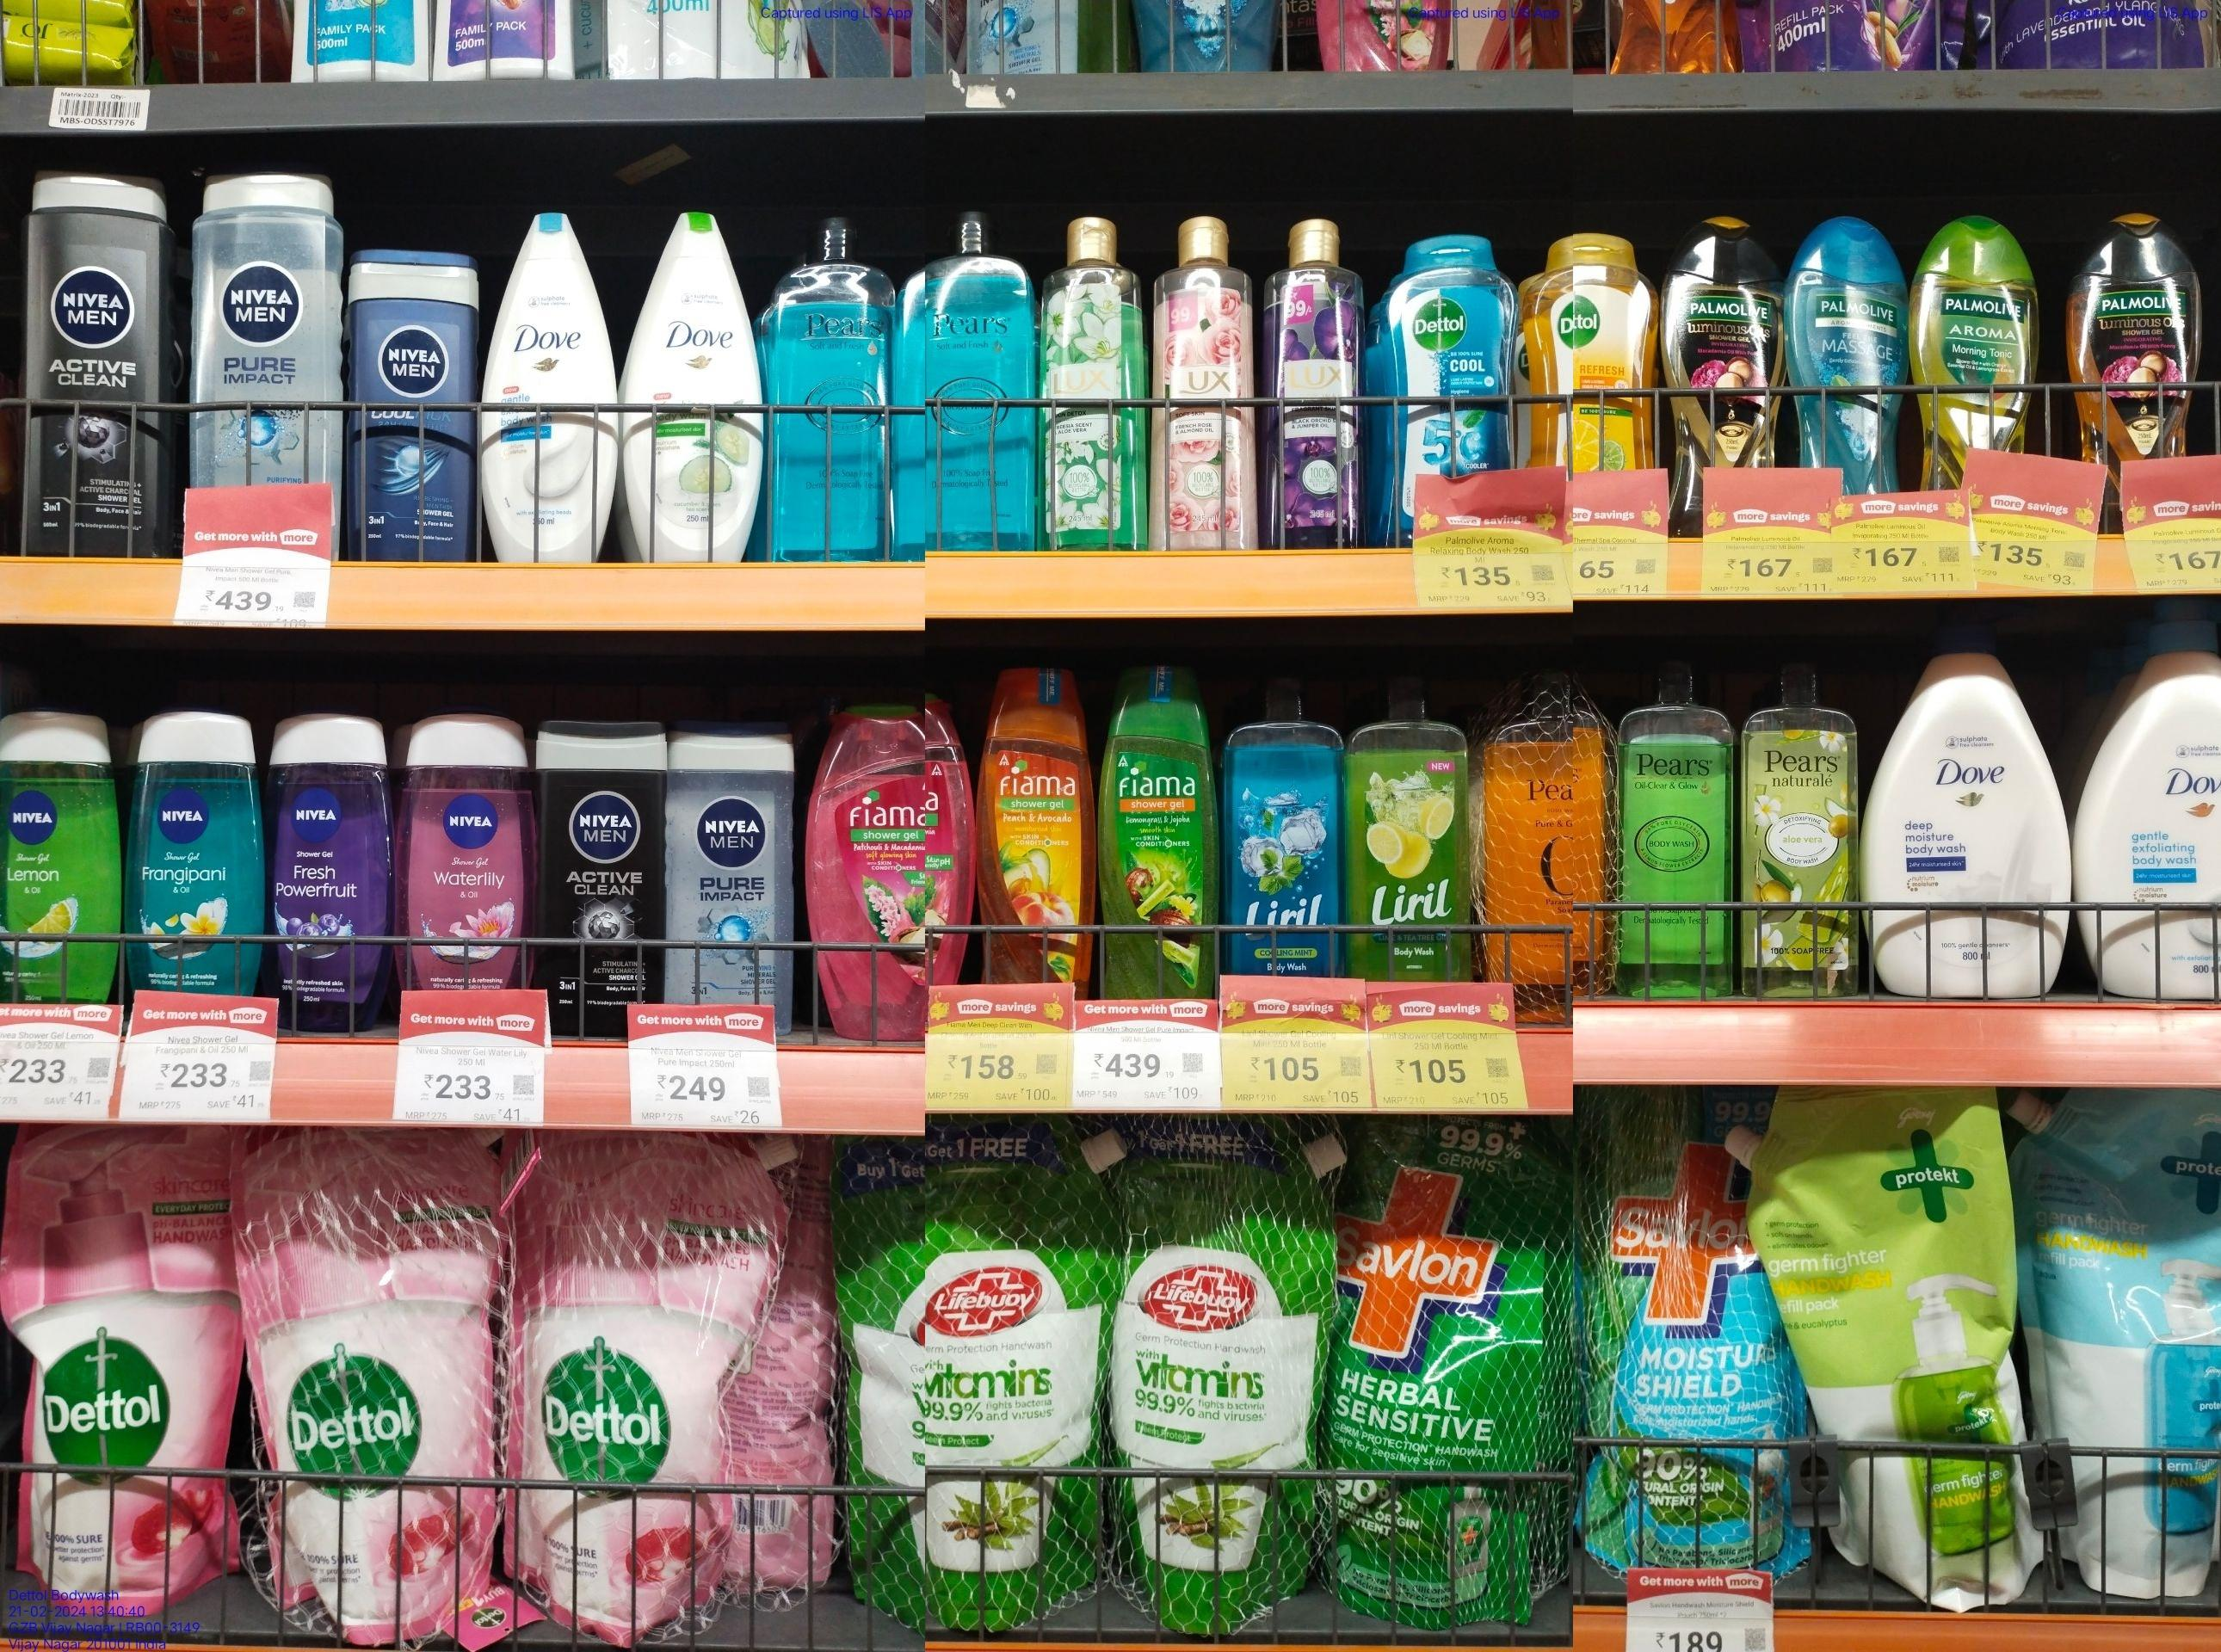Dettol_Bodywash_Cool: (1379, 231, 1518, 470)
Dettol_Bodywash_Refresh: (1520, 227, 1657, 469)
Dove_Gentle_Exfoliating_Body_Wash_250ML: (477, 206, 616, 562)
Dove_Refreshing_Body_Wash_250ML: (614, 205, 765, 562)
Liril_Cooling_Mint_Body_Wash_250ML: (1216, 675, 1343, 975)
Liril_Lime_and_Tea_Tree_Oil_Body_Wash_250ML: (1343, 673, 1471, 979)
Lux_Black_Orchid_Scent_and_Juniper_Oil_Body_Wash_245ML: (1261, 215, 1369, 548)
Lux_Body_Wash_Skin_Detox_Freesia_Scent_and_Alove_Vera_245ML: (1036, 203, 1147, 550)
Nivea_Shower_Gel_Frangipani_and_Oil_250ML: (121, 706, 265, 989)
Nivea_Shower_Gel_Fresh_Powerfruit_250ML: (265, 705, 392, 1034)
Nivea_Shower_Gel_Lemon_and_Oil_250ML: (0, 705, 123, 1005)
Nivea_Shower_Gel_Waterlily_and_Oil_250ML: (396, 706, 536, 989)
Palmolive_Aroma_Moments_Feel_The_Massage_Shower_Gel_250ML: (1792, 206, 1910, 462)
Palmolive_Aroma_Morning_Tonic_Shower_Gel_250ML: (1912, 208, 2044, 446)
Palmolive_Luminous_Oils_Invigorating_Macadamia_Oil_With_Peony_250ML: (2063, 205, 2204, 455), (1657, 210, 1789, 462)
Pears_Pure_Glycerin_and_Mint_Extracts_Body_Wash_250ML: (763, 205, 897, 560), (1610, 654, 1733, 998), (925, 203, 1038, 554)
